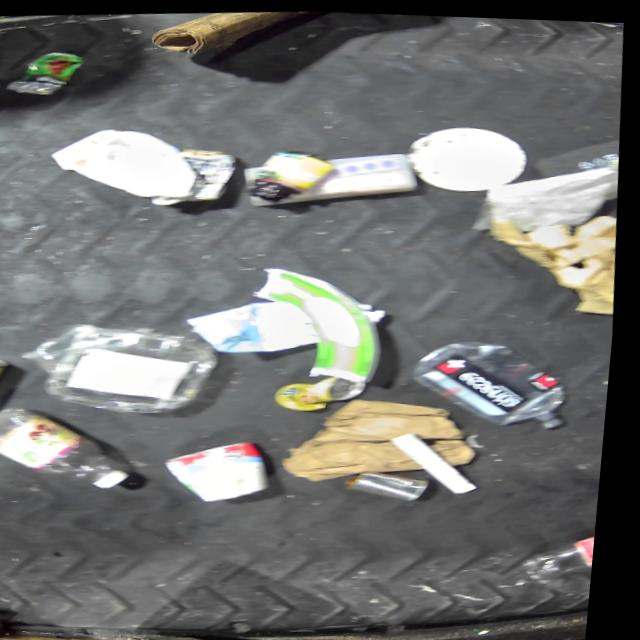can: (165, 435, 280, 505), (151, 143, 240, 208), (276, 370, 379, 414), (2, 48, 88, 99), (350, 465, 439, 502), (0, 352, 17, 414)
milk_jug: (47, 121, 202, 205), (186, 294, 327, 358)
plastic_bottle: (409, 331, 582, 434), (0, 400, 140, 497), (526, 525, 604, 580)
